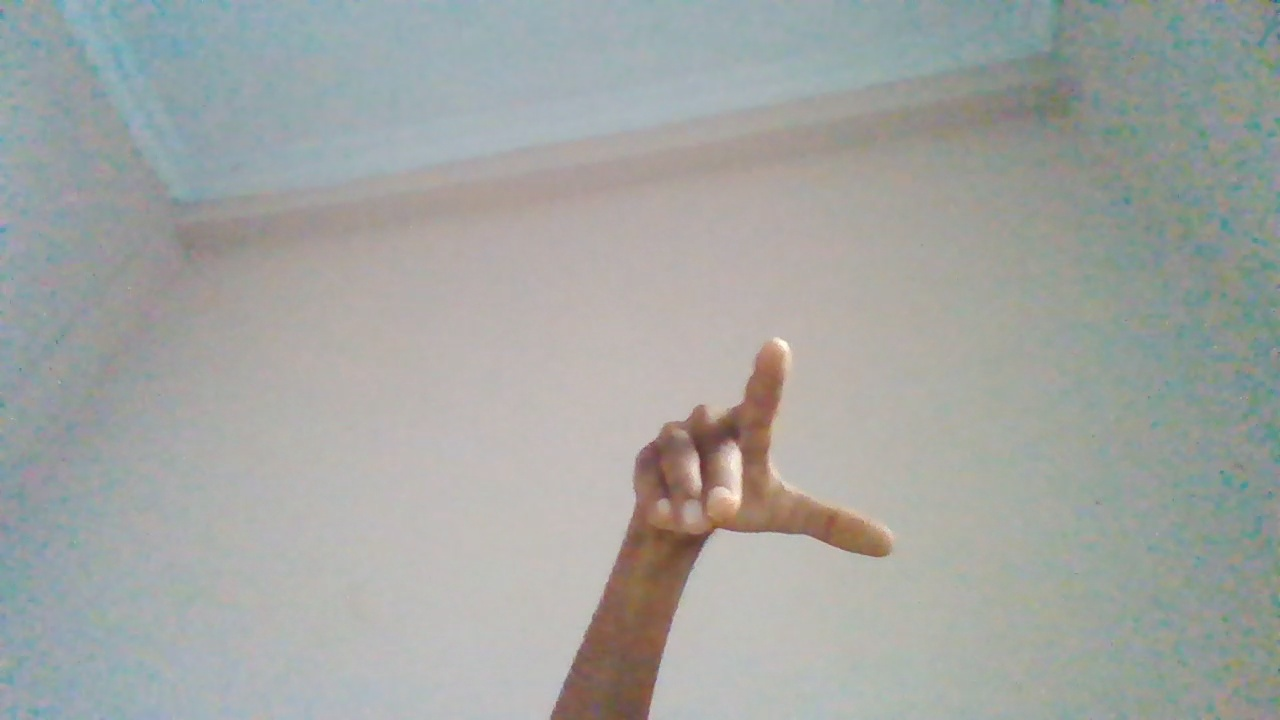ke: (614, 339, 895, 709)
